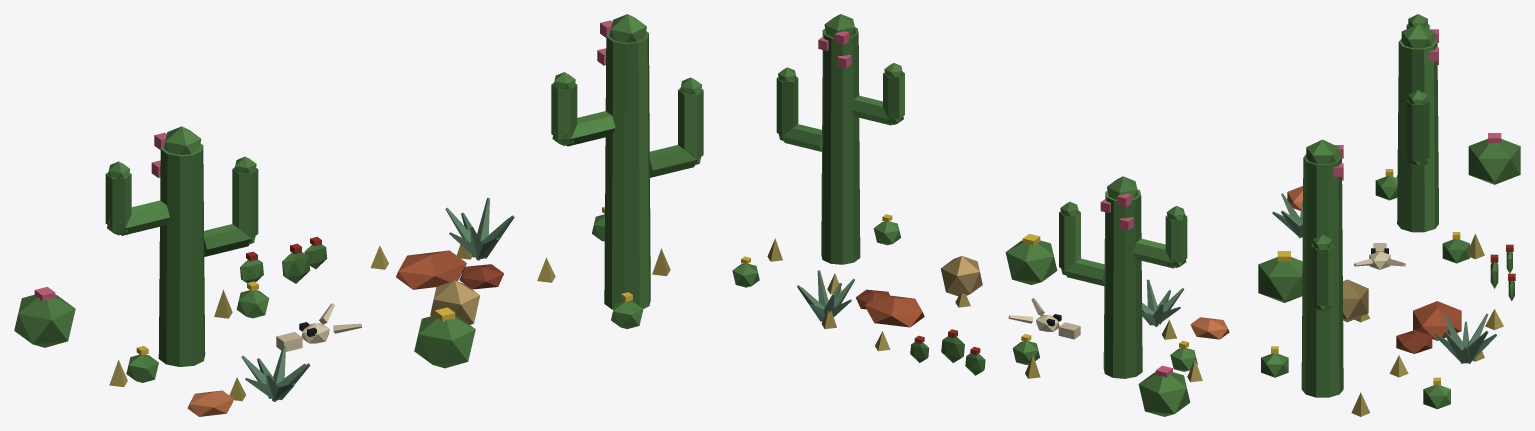
File: Decor_WesternSaloon_Cacti.fbx
The picture shows the model from 3 angles, left to right: view 1: azimuth 30°, elevation 25°; view 2: azimuth 150°, elevation 25°; view 3: azimuth 270°, elevation 25°; orthographic projection. The views are drawn at different scales.
Visible parts, largest first — view 1: Cacti_Body; view 2: Cacti_Body; view 3: Cacti_Body.
Boxes of the visible parts, <box> form: Cacti_Body: <box>14,14,703,416</box>; Cacti_Body: <box>732,14,1229,416</box>; Cacti_Body: <box>1258,14,1520,416</box>.
Bounding box in the file's own units: 31.7 × 15 × 14.2.
